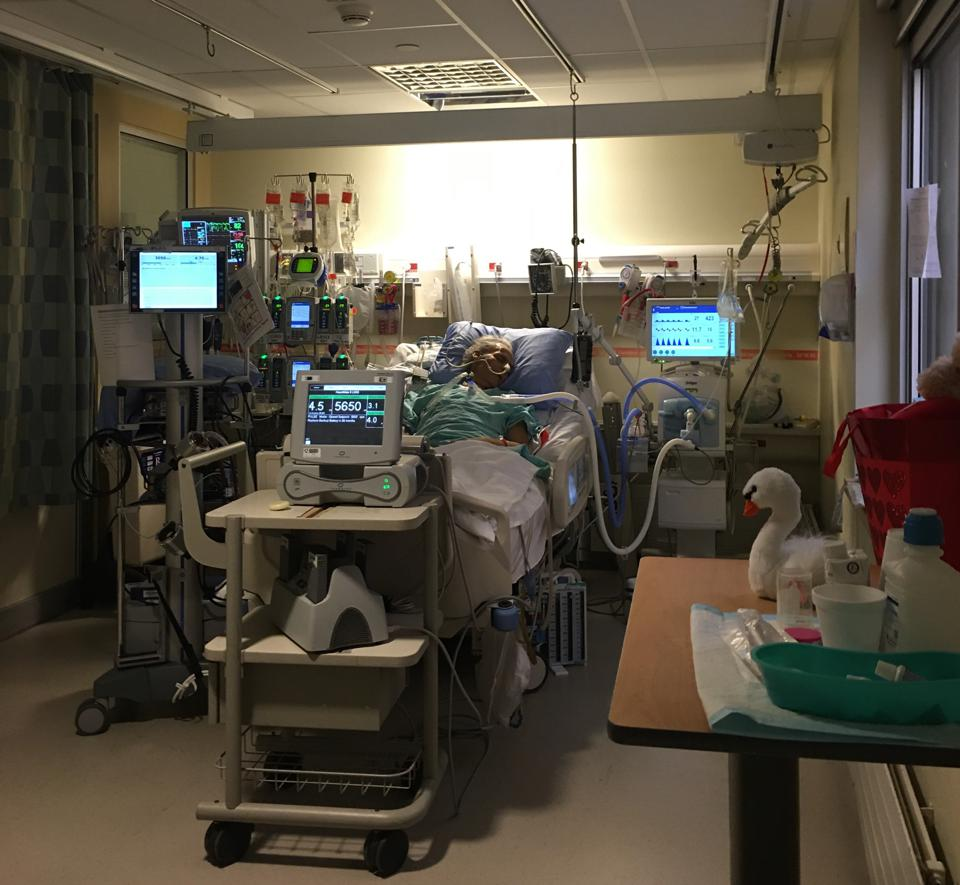bedrail: (554, 434, 595, 530)
bedside_monitor: (278, 370, 423, 508), (129, 246, 227, 312), (183, 204, 262, 268)
breathing_tube: (425, 372, 723, 558)
curtain: (1, 47, 96, 510)
dispenser: (815, 273, 856, 343)
hospital_bed: (256, 336, 605, 694)
infusion_pump: (282, 294, 354, 345)
iv_pole: (264, 171, 361, 370), (102, 221, 149, 304)
patient: (404, 336, 536, 501)
table: (604, 538, 960, 866)
ventilator: (626, 294, 744, 566)
